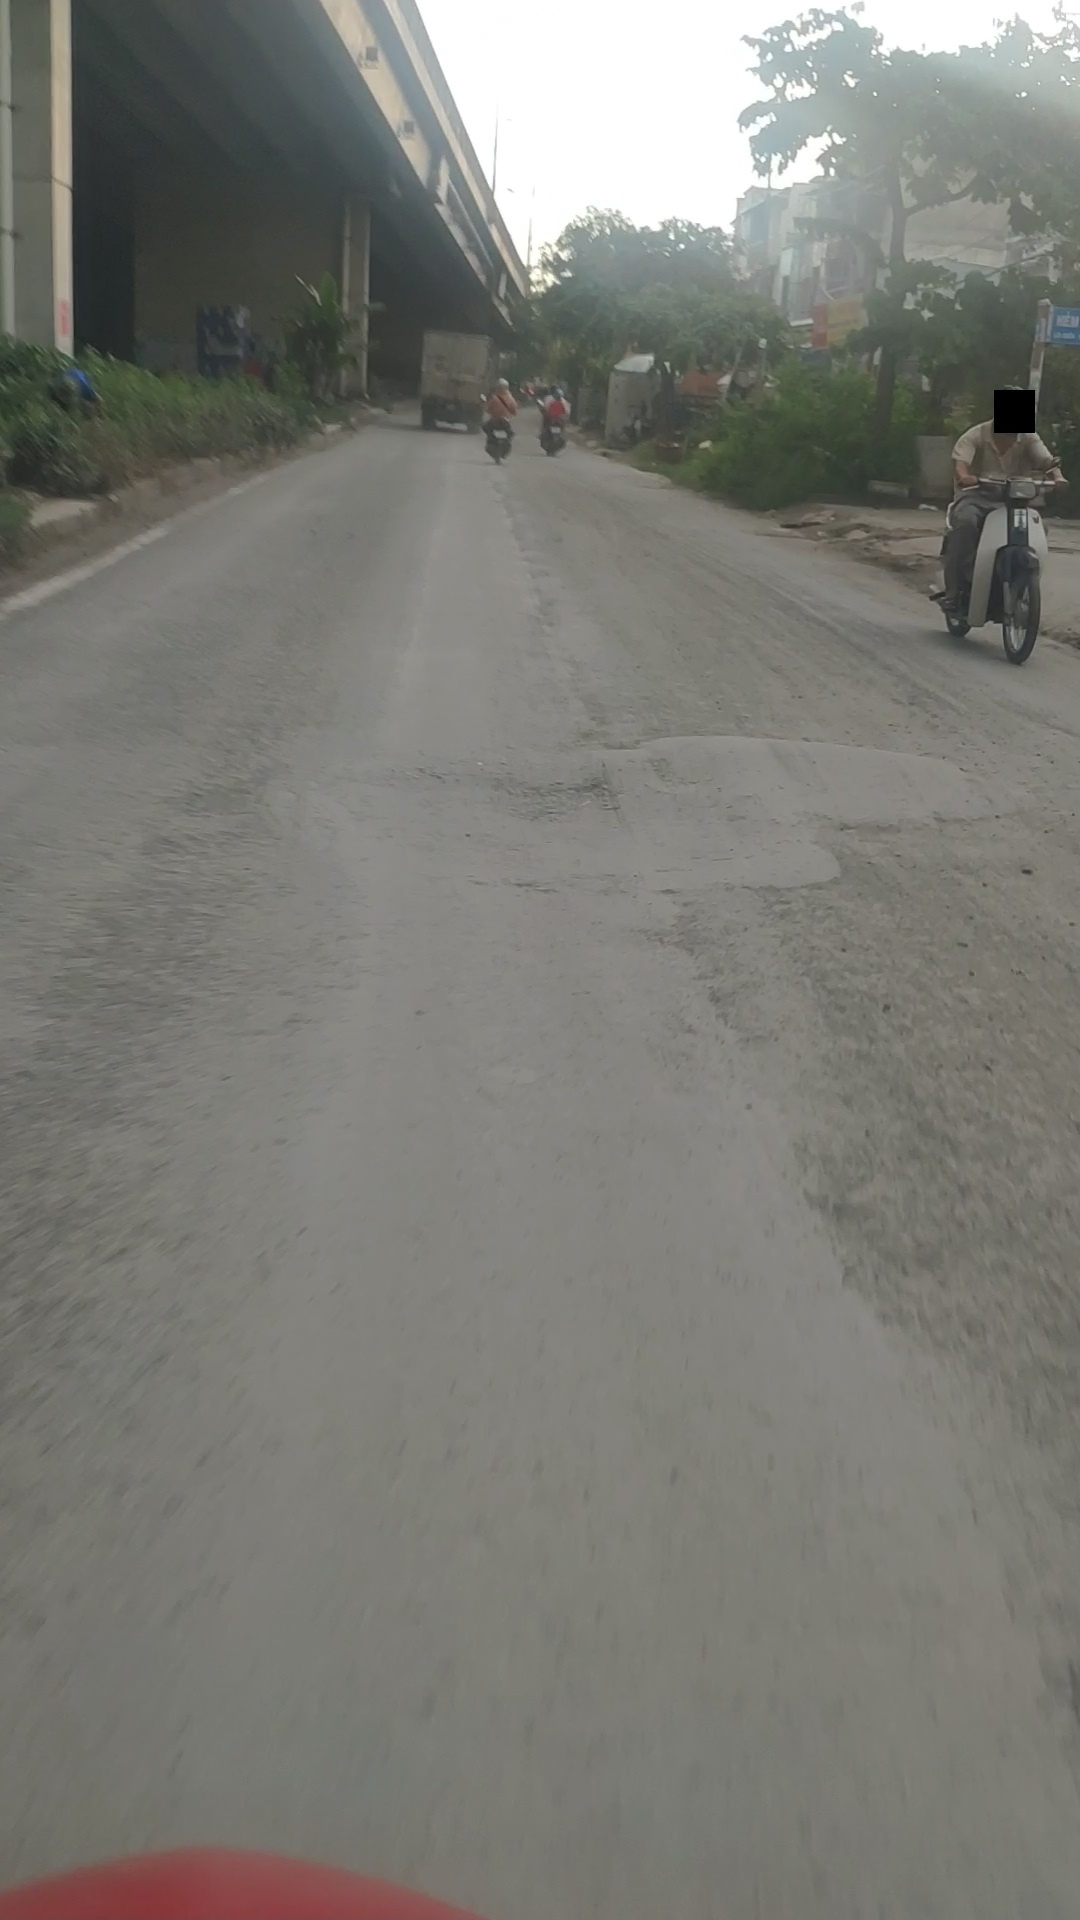hole: (287, 762, 831, 882)
